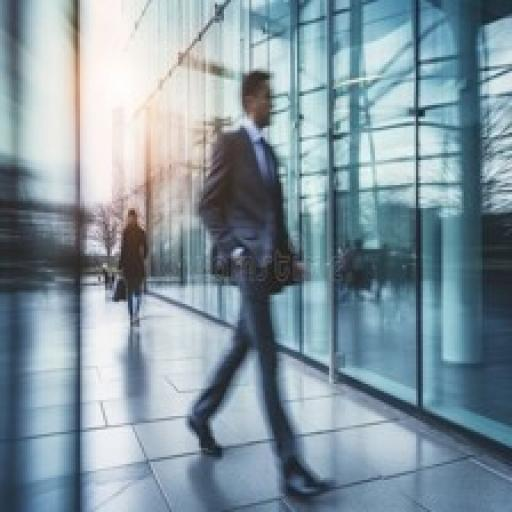human: (180, 61, 336, 512)
